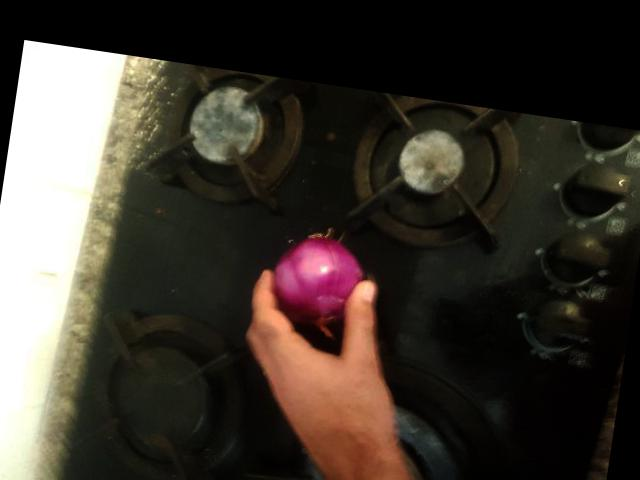onion: (151, 160, 258, 277)
